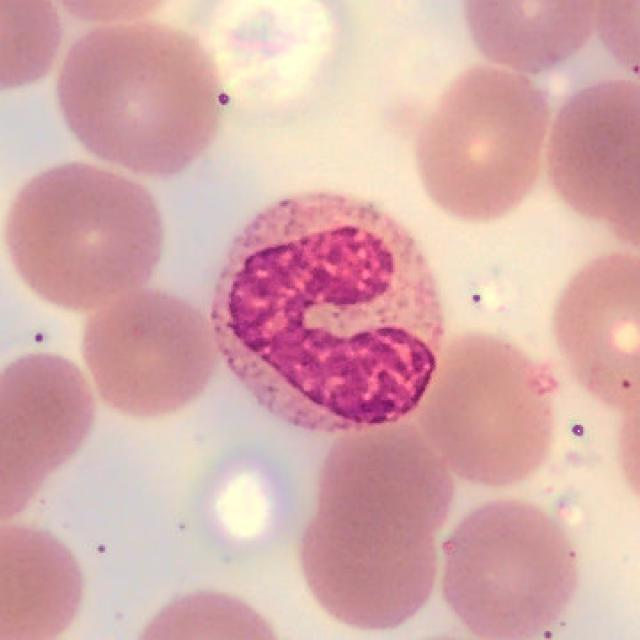Bastonete: (210, 192, 444, 434)
